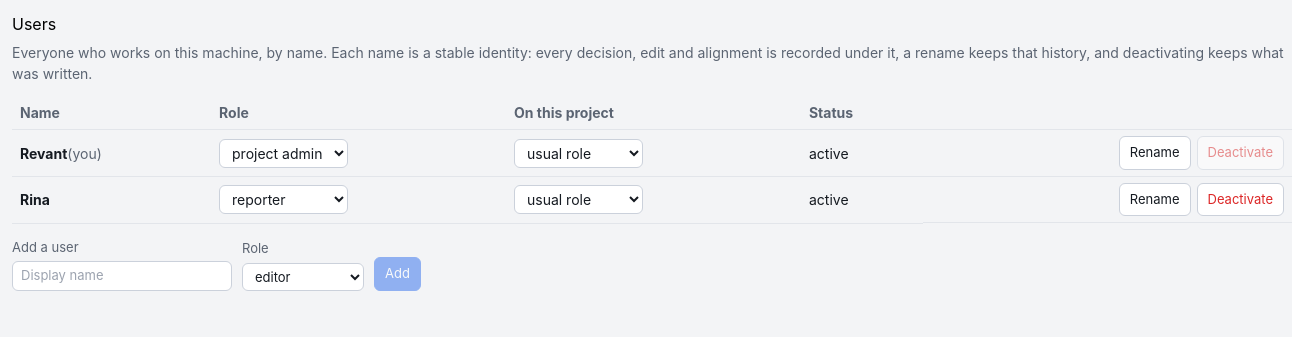
UsersPane (#237) › with a book open, an admin gives someone a role on this project (#279)
The image size is (1292, 337).
Select "editor" in the dropdown named "Role on this project for Rina": [578, 200] box [514,185,643,214]
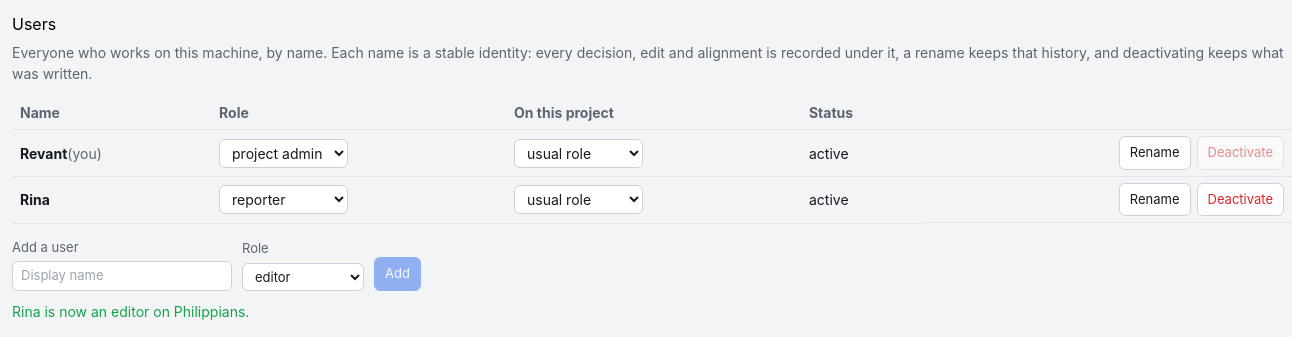
Expected: the text "Rina is now an editor on Philippians." is shown, [12,302,249,320]
